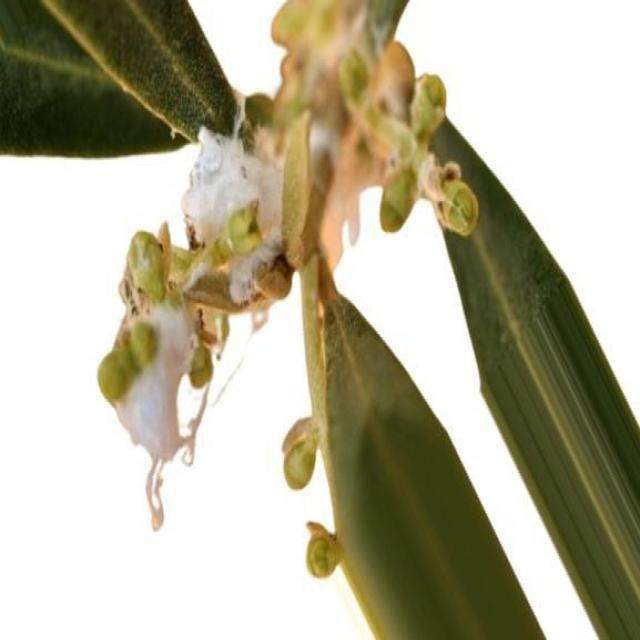Psyllid: (97, 128, 290, 530)
